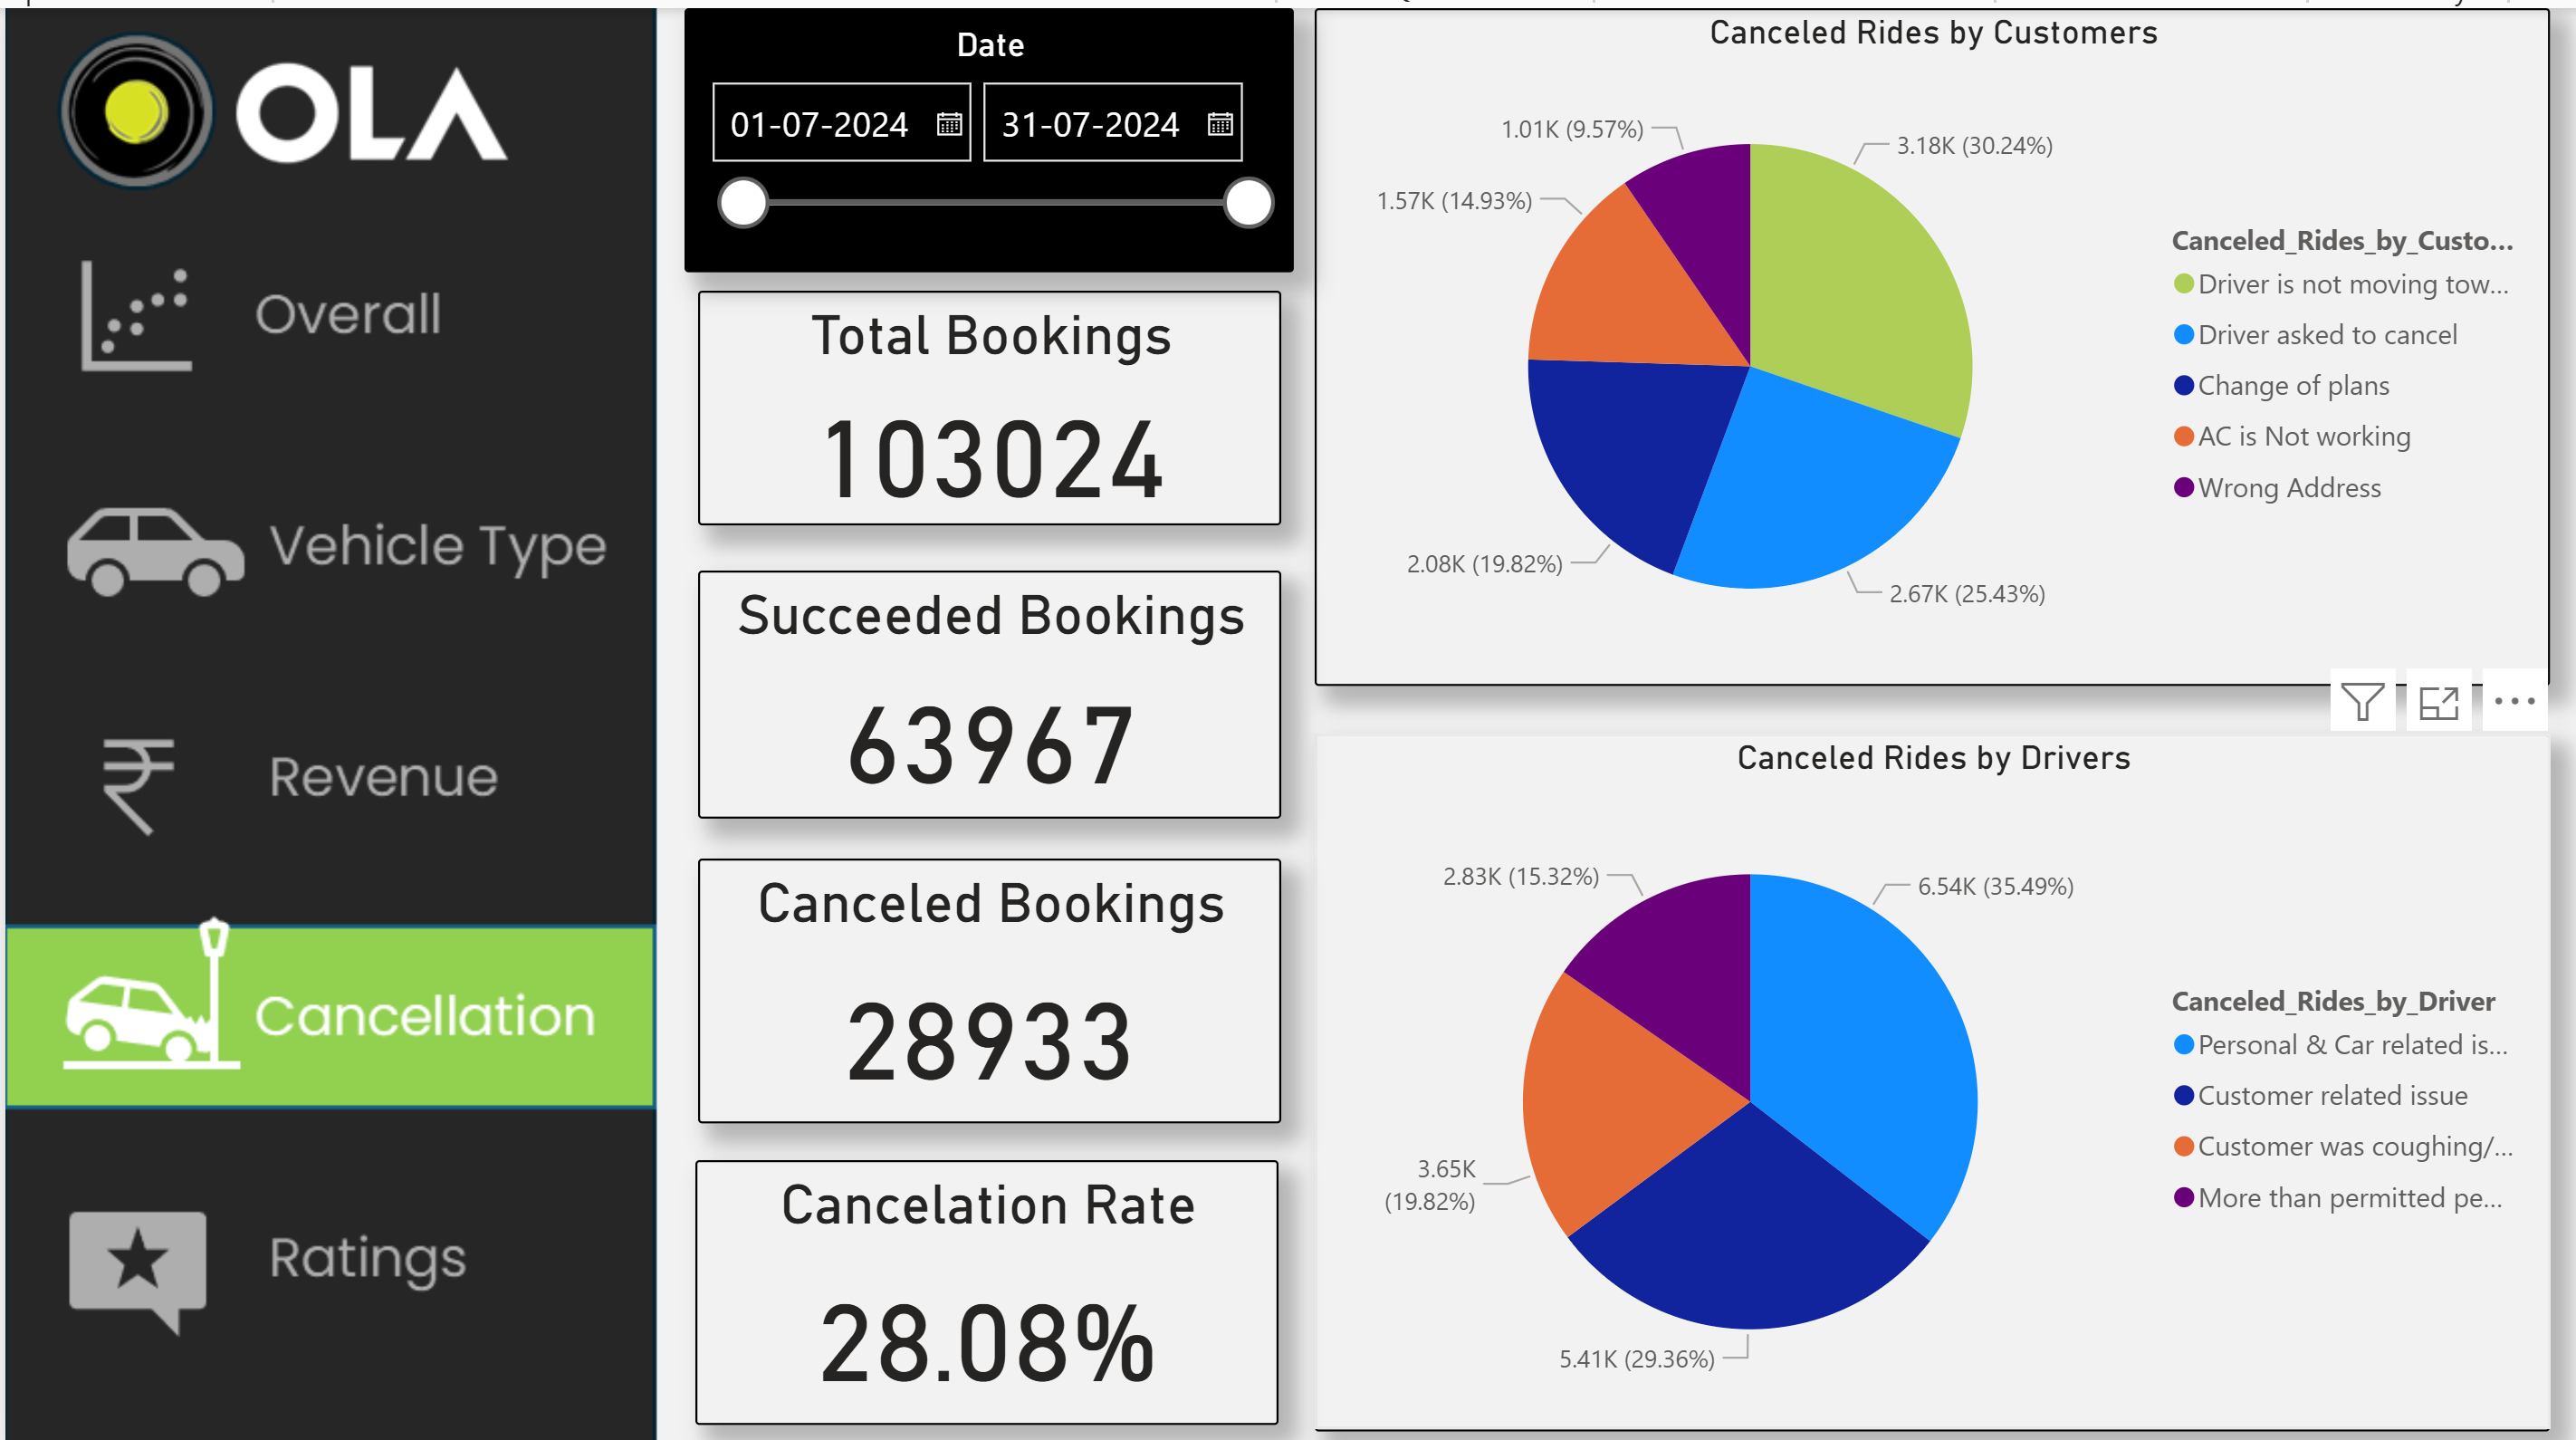

The page's visual inventory and layout, read from the dashboard file:
{"tool":"powerbi","page":{"name":"Cencellation","canvas":[1280,720],"ordinal":3},"visuals":[{"type":"actionButton","box":[0,337.5,326.2,91.2],"z":0},{"type":"actionButton","box":[0,223.8,326.2,91.2],"z":1000},{"type":"actionButton","box":[1.2,575,326.2,91.2],"z":2000},{"type":"actionButton","box":[0,106.2,326.2,91.2],"z":3000},{"type":"actionButton","box":[1.2,116.2,325,91.2],"z":4000},{"type":"pieChart","title":"Canceled Rides by Customers","fields":{"Category":["July.Canceled_Rides_by_Customer"],"Y":["CountNonNull(July.Canceled_Rides_by_Customer)"]},"box":[651.4,0,614.3,337.1],"z":5000},{"type":"pieChart","title":"Canceled Rides by Drivers","fields":{"Category":["July.Canceled_Rides_by_Driver"],"Y":["CountNonNull(July.Canceled_Rides_by_Driver)"]},"box":[651.4,360,614.3,347.1],"z":6000},{"type":"slicer","title":"Date","fields":{"Values":["July.Date"]},"box":[337.1,0,302.9,131.4],"z":7000},{"type":"card","title":"Total Bookings","fields":{"Values":["Count(July.Booking_ID)"]},"box":[345,140,290,116.7],"z":8000},{"type":"card","title":"Succeeded Bookings","fields":{"Values":["Count(July.Booking_ID)"]},"box":[345,280,290,123.3],"z":9000},{"type":"card","title":"Canceled Bookings","fields":{"Values":["Count(July.Booking_ID)"]},"box":[345,423.3,290,131.7],"z":10000},{"type":"card","title":"Cancelation Rate","fields":{"Values":["July.CanceledPercentage"]},"box":[343.3,573.3,290,131.7],"z":11000}]}

Visuals, with their boxes on the page's 1280x720 design canvas (x1, y1, x2, y2). These are canvas units, not pixel positions in the 2576x1440 screenshot, which may show the page scaled, cropped or inside an application window:
actionButton: <box>0,338,326,429</box>
actionButton: <box>0,224,326,315</box>
actionButton: <box>1,575,327,666</box>
actionButton: <box>0,106,326,197</box>
actionButton: <box>1,116,326,207</box>
"Canceled Rides by Customers" pieChart: <box>651,0,1266,337</box>
"Canceled Rides by Drivers" pieChart: <box>651,360,1266,707</box>
"Date" slicer: <box>337,0,640,131</box>
"Total Bookings" card: <box>345,140,635,257</box>
"Succeeded Bookings" card: <box>345,280,635,403</box>
"Canceled Bookings" card: <box>345,423,635,555</box>
"Cancelation Rate" card: <box>343,573,633,705</box>
